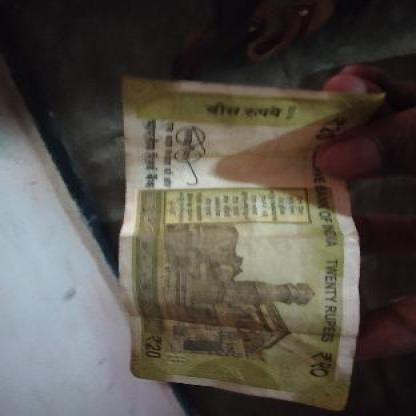New20Back: (120, 79, 355, 409)
